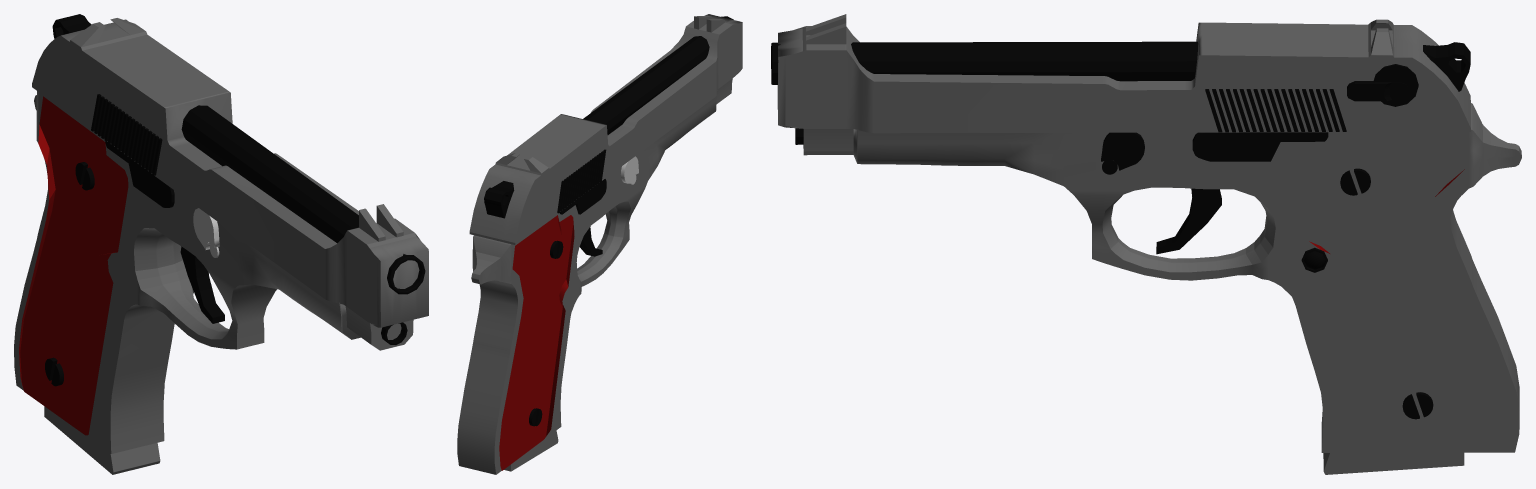
File: revolver_real.fbx
3 renders of one model, left to right at view 1: azimuth 30°, elevation 25°; view 2: azimuth 150°, elevation 25°; view 3: azimuth 270°, elevation 25°, orthographic. The views are drawn at different scales.
Visible parts, largest first — view 1: Beretta_M9.001, Beretta_M9.019; view 2: Beretta_M9.001, Beretta_M9.019; view 3: Beretta_M9.001, Beretta_M9.019.
Boxes of the visible parts, box(x1,y1,x2,y2) form: Beretta_M9.001: box(14, 14, 428, 474); Beretta_M9.019: box(19, 94, 425, 435); Beretta_M9.001: box(457, 14, 742, 474); Beretta_M9.019: box(499, 16, 733, 470); Beretta_M9.001: box(777, 14, 1521, 474); Beretta_M9.019: box(771, 41, 1433, 419).
Size of the model in its own units: 4.49 by 23.97 by 36.74.
